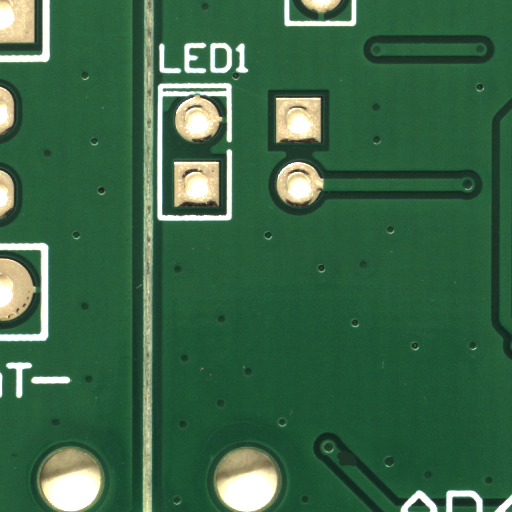Mouse_bite: (348, 459, 369, 474)
